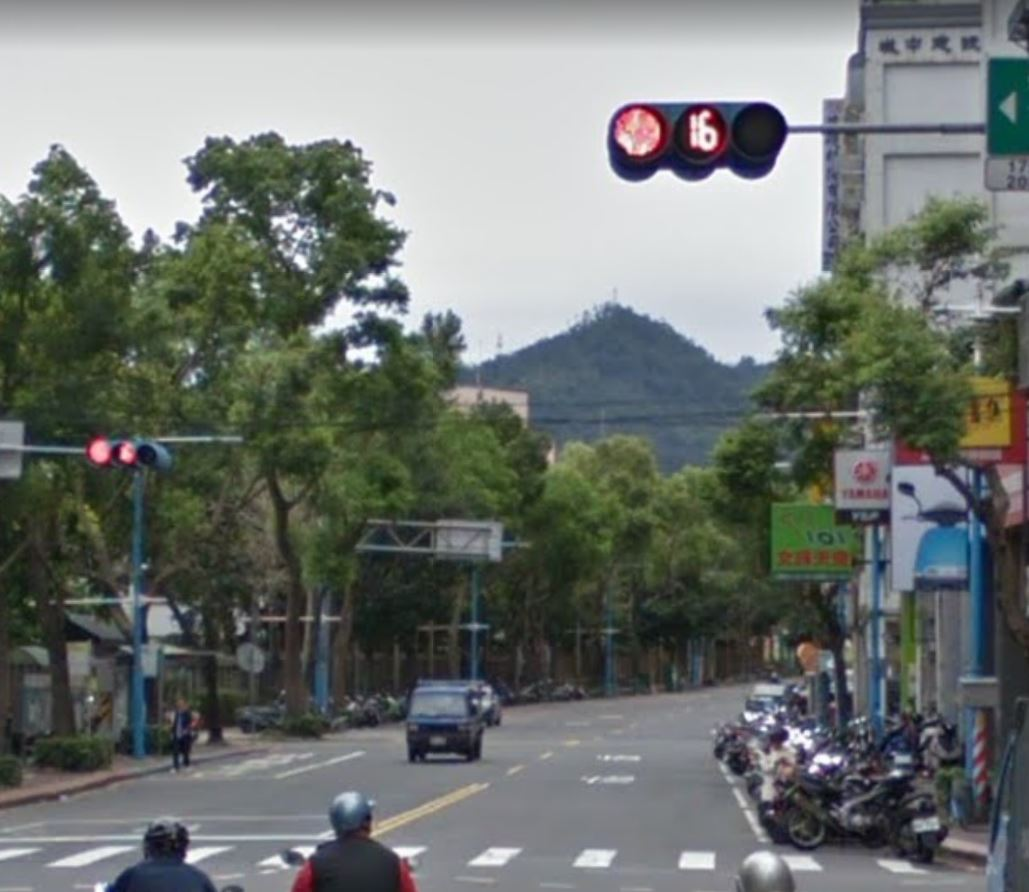Traffic_light_red: (604, 99, 791, 184), (86, 435, 176, 473)
